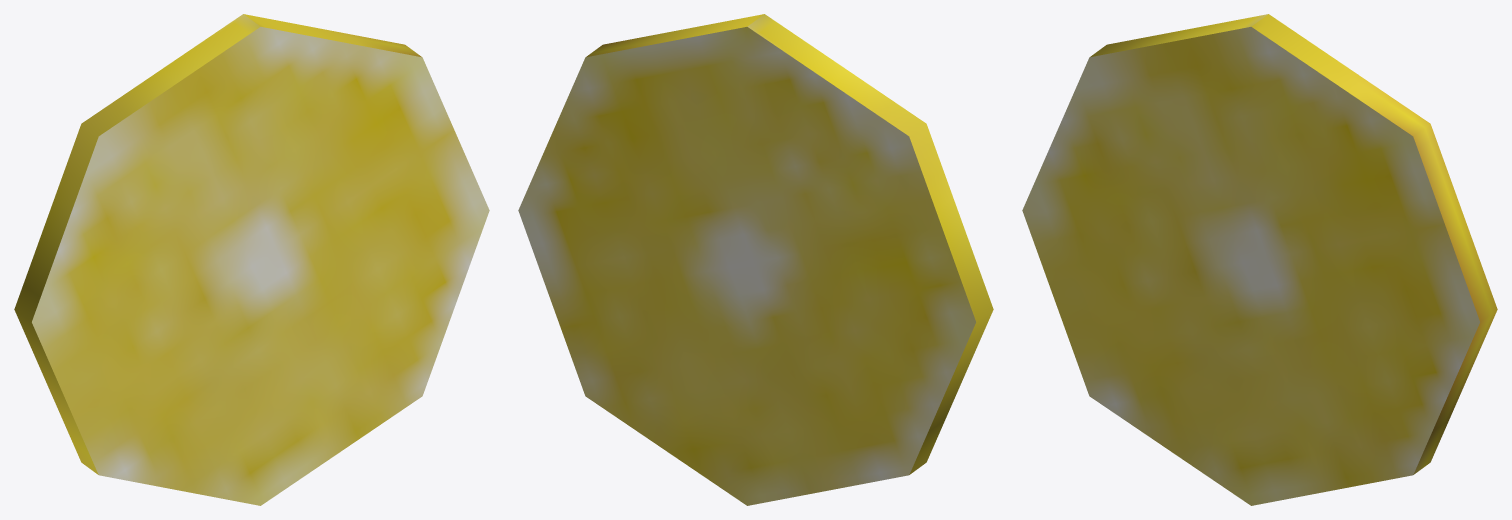
File: Lemon.fbx
3 renders of one model, left to right at view 1: azimuth 30°, elevation 25°; view 2: azimuth 150°, elevation 25°; view 3: azimuth 330°, elevation 25°, orthographic.
Visible parts, largest first — view 1: Cocktails.002; view 2: Cocktails.002; view 3: Cocktails.002.
Boxes of the visible parts, x1,y1,x2,y2 form: Cocktails.002: [14, 14, 489, 505]; Cocktails.002: [518, 14, 993, 505]; Cocktails.002: [1022, 14, 1497, 505].
Size of the model in its own units: 0.1075 by 0.1075 by 0.00708.
